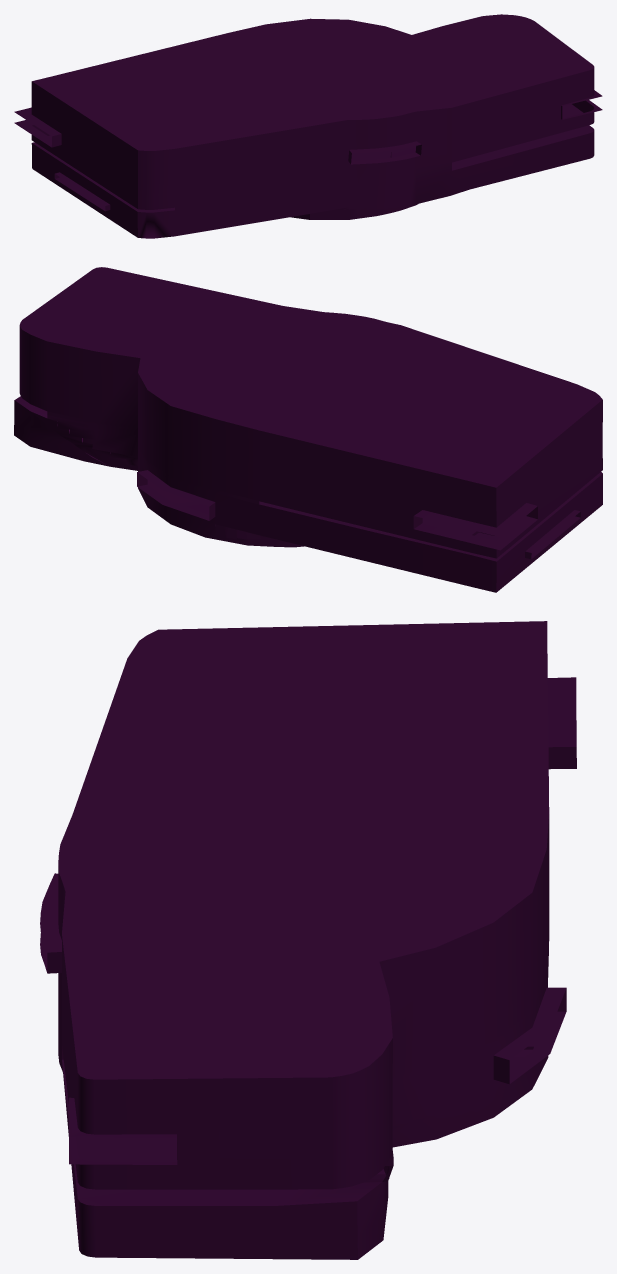
File: blockoutCódigoFracturadoV01.fbx
3 views of the same model, one above another, from view 1: azimuth 30°, elevation 25°; view 2: azimuth 150°, elevation 25°; view 3: azimuth 270°, elevation 25° (orthographic). The views are drawn at different scales.
Parts seen in each view (by area): view 1: polySurface5; view 2: polySurface5; view 3: polySurface5.
Part boxes in pixels (x1,y1,x2,y2): polySurface5: (14,14,602,238); polySurface5: (14,267,602,592); polySurface5: (40,621,576,1259).
Bounding box in the file's own units: 161 × 34.03 × 80.88.
